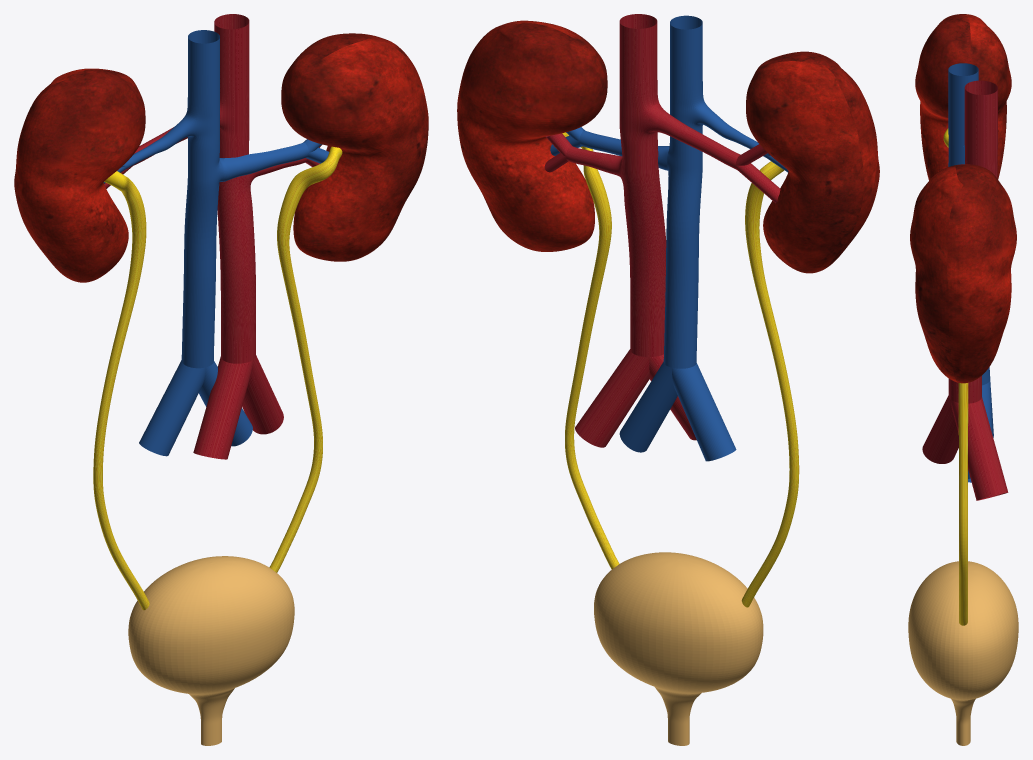
3 renders of one model, left to right at view 1: azimuth 30°, elevation 25°; view 2: azimuth 150°, elevation 25°; view 3: azimuth 270°, elevation 25°, orthographic. The views are drawn at different scales.
Parts seen in each view (by area): view 1: Sphere.001_4, Sphere_3, Sphere.002_8, Cylinder.002_5, Cylinder.003_6, Cylinder_9, Cylinder.001_10; view 2: Sphere.001_4, Sphere_3, Cylinder.003_6, Sphere.002_8, Cylinder.002_5, Cylinder_9, Cylinder.001_10; view 3: Sphere.001_4, Sphere.002_8, Sphere_3, Cylinder.003_6, Cylinder.002_5, Cylinder.001_10.
Boxes of the visible parts, bbox=[...] form: Sphere.001_4: bbox=[281, 33, 428, 261]; Sphere_3: bbox=[14, 68, 145, 282]; Sphere.002_8: bbox=[128, 556, 294, 745]; Cylinder.002_5: bbox=[103, 30, 329, 456]; Cylinder.003_6: bbox=[104, 14, 322, 459]; Cylinder_9: bbox=[93, 171, 149, 610]; Cylinder.001_10: bbox=[269, 146, 342, 572]; Sphere.001_4: bbox=[457, 20, 607, 251]; Sphere_3: bbox=[746, 51, 879, 273]; Cylinder.003_6: bbox=[544, 14, 780, 447]; Sphere.002_8: bbox=[594, 552, 763, 745]; Cylinder.002_5: bbox=[550, 15, 788, 461]; Cylinder_9: bbox=[741, 161, 799, 607]; Cylinder.001_10: bbox=[562, 132, 619, 569]; Sphere.001_4: bbox=[910, 164, 1016, 383]; Sphere.002_8: bbox=[908, 561, 1018, 745]; Sphere_3: bbox=[915, 14, 1011, 180]; Cylinder.003_6: bbox=[922, 80, 1008, 500]; Cylinder.002_5: bbox=[948, 63, 993, 482]; Cylinder.001_10: bbox=[958, 383, 968, 625].
Bounding box in the file's own units: 9.46 × 15.84 × 2.37.
Materials: 7 (6 with a texture image).
